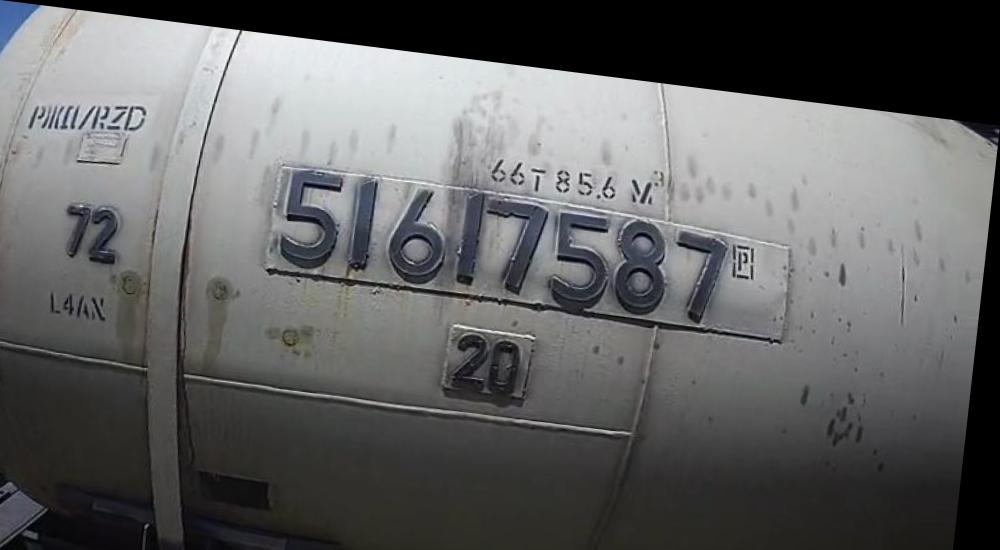Wagon-number: (274, 153, 741, 311)
